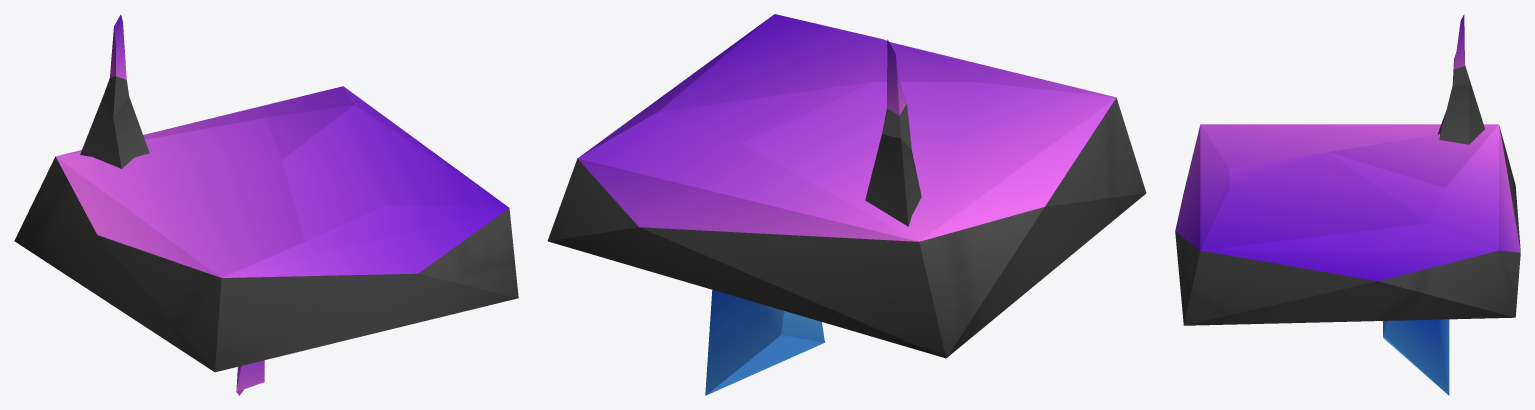
Rendered from platformpowerup2.glb.
The picture shows the model from 3 angles, left to right: view 1: azimuth 30°, elevation 25°; view 2: azimuth 150°, elevation 25°; view 3: azimuth 270°, elevation 25°; orthographic projection. The views are drawn at different scales.
Visible parts, largest first — view 1: Cube.001; view 2: Cube.001; view 3: Cube.001.
Part boxes in pixels (<box>): Cube.001: <box>14,14,518,395</box>; Cube.001: <box>547,14,1146,395</box>; Cube.001: <box>1175,14,1520,395</box>.
Size of the model in its own units: 4.5 by 4.37 by 4.41.
1 material, 1 textured.
